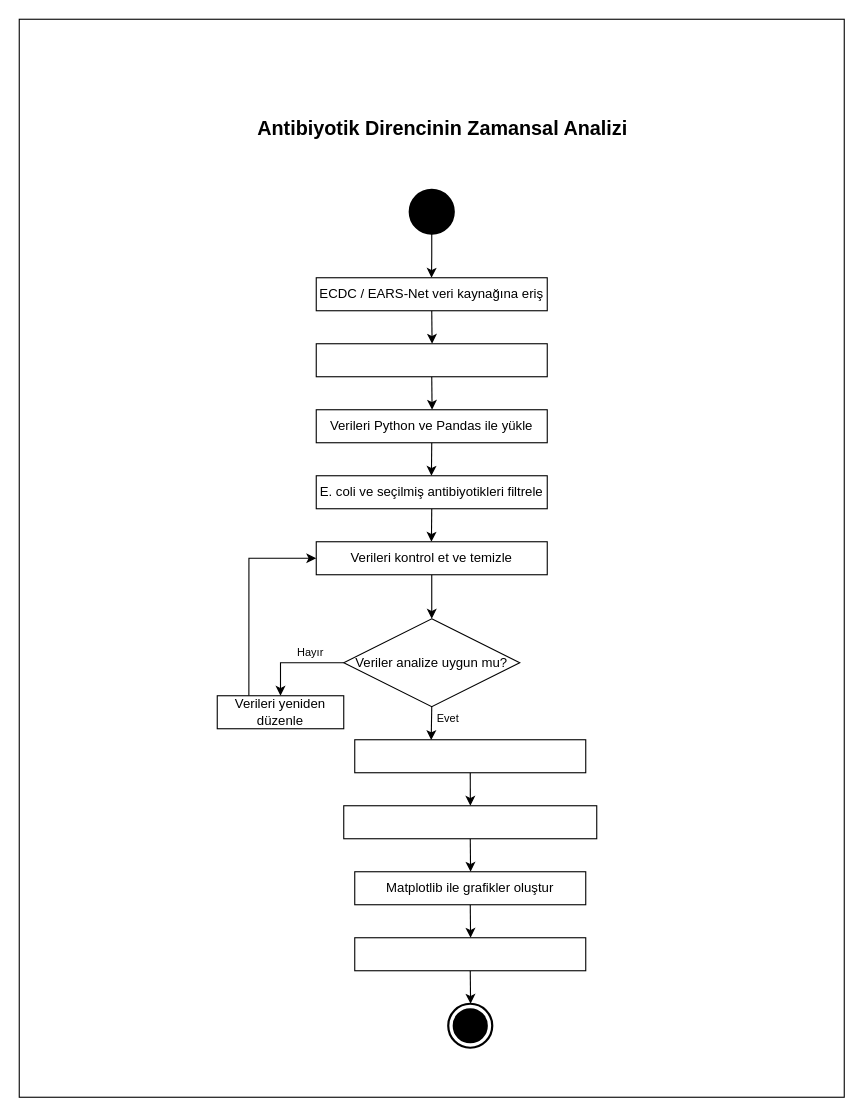
This 864x1117 diagram has some shape labels left out. Here are the shapes that lost their labels. From the top down, the box of each, then its label:
(315, 343, 547, 377): Antibiyotik direnç verilerini indir
(354, 739, 586, 773): Direnç oranlarını hesapla
(343, 805, 597, 839): Yıllara göre direnç oranlarını karşılaştır
(354, 937, 586, 971): Sonuçları yorumla ve raporla
